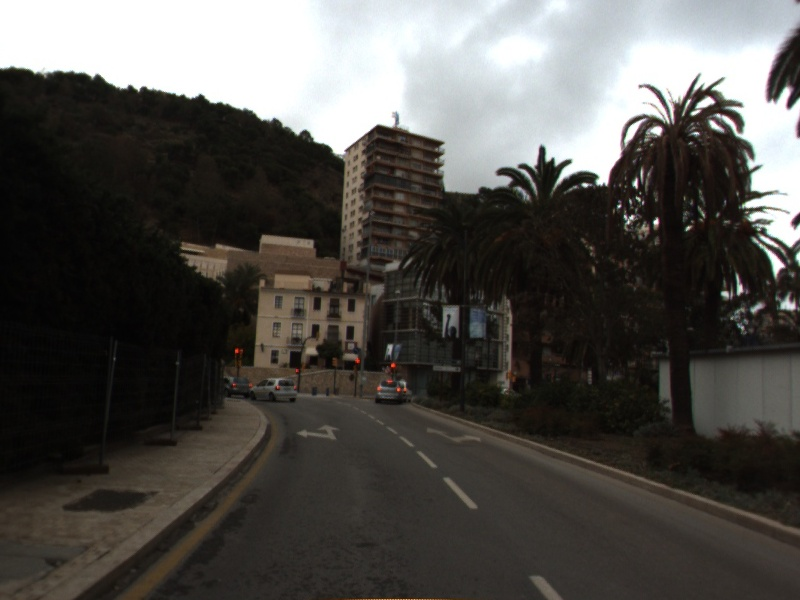STRAIGHT_LEFT: (294, 422, 344, 442)
STRAIGHT_RIGHT: (424, 424, 484, 446)
